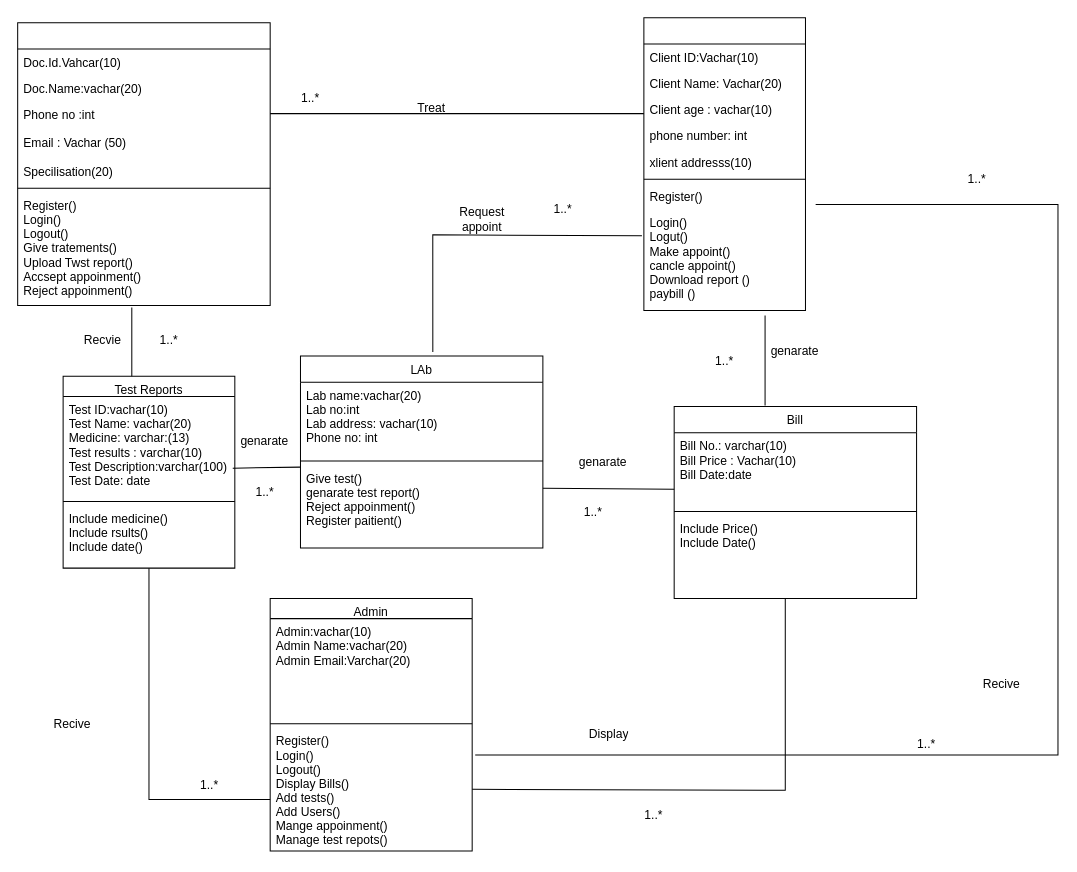
The diagram is 1077 pixels wide and 872 high, and some of its shapes have lost their labels. The box of each missing label's shape, as (x1, y1, x2, y2) in pixels:
Doctor: (17, 22, 270, 306)
Patient: (643, 17, 805, 311)
